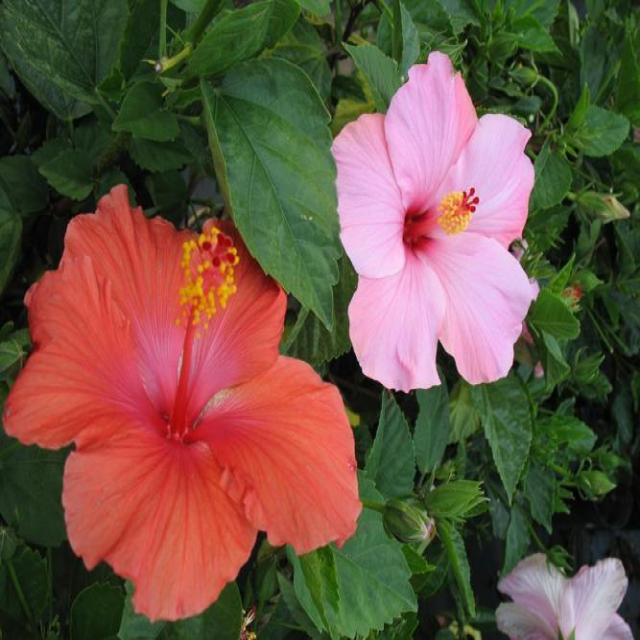hibiscus: (21, 17, 368, 640), (209, 0, 600, 489)
